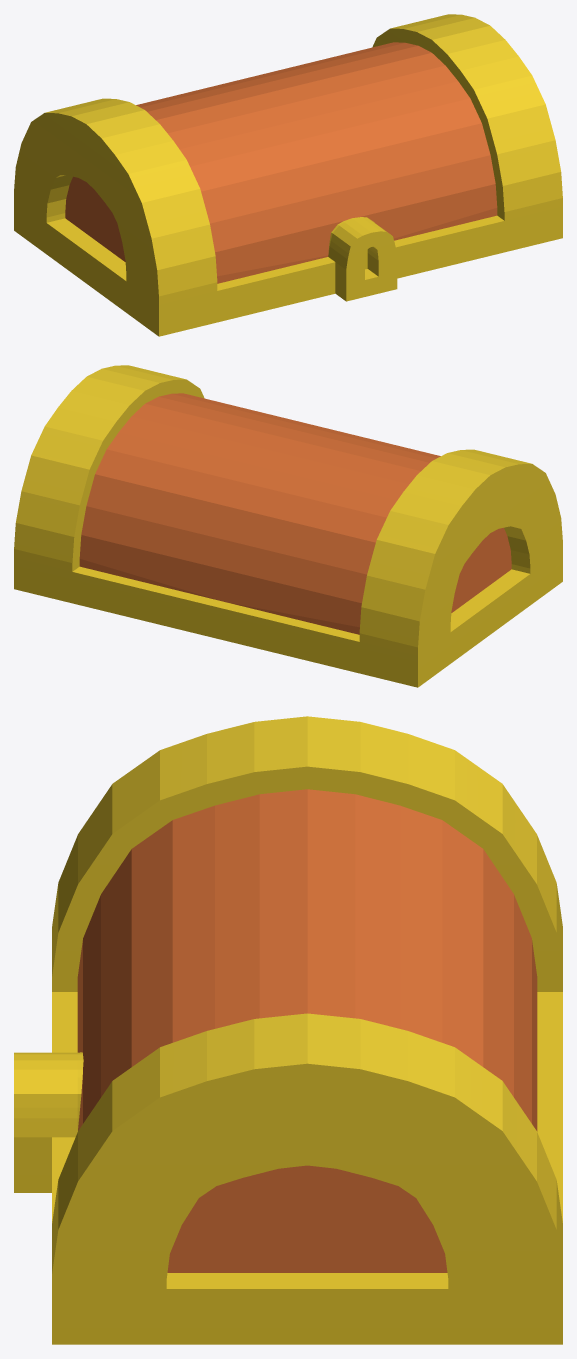
Rendered from Safe Chest 4 top.fbx.
The picture shows the model from 3 angles, top to bottom: view 1: azimuth 30°, elevation 25°; view 2: azimuth 150°, elevation 25°; view 3: azimuth 270°, elevation 25°; orthographic projection. The views are drawn at different scales.
Visible parts, largest first — view 1: Safe Chest 4 top; view 2: Safe Chest 4 top; view 3: Safe Chest 4 top.
Boxes of the visible parts, x1=… form: Safe Chest 4 top: x1=14, y1=14, x2=562, y2=336; Safe Chest 4 top: x1=14, y1=365, x2=562, y2=687; Safe Chest 4 top: x1=14, y1=716, x2=562, y2=1344.
Size of the model in its own units: 103 by 38.66 by 68.47.
